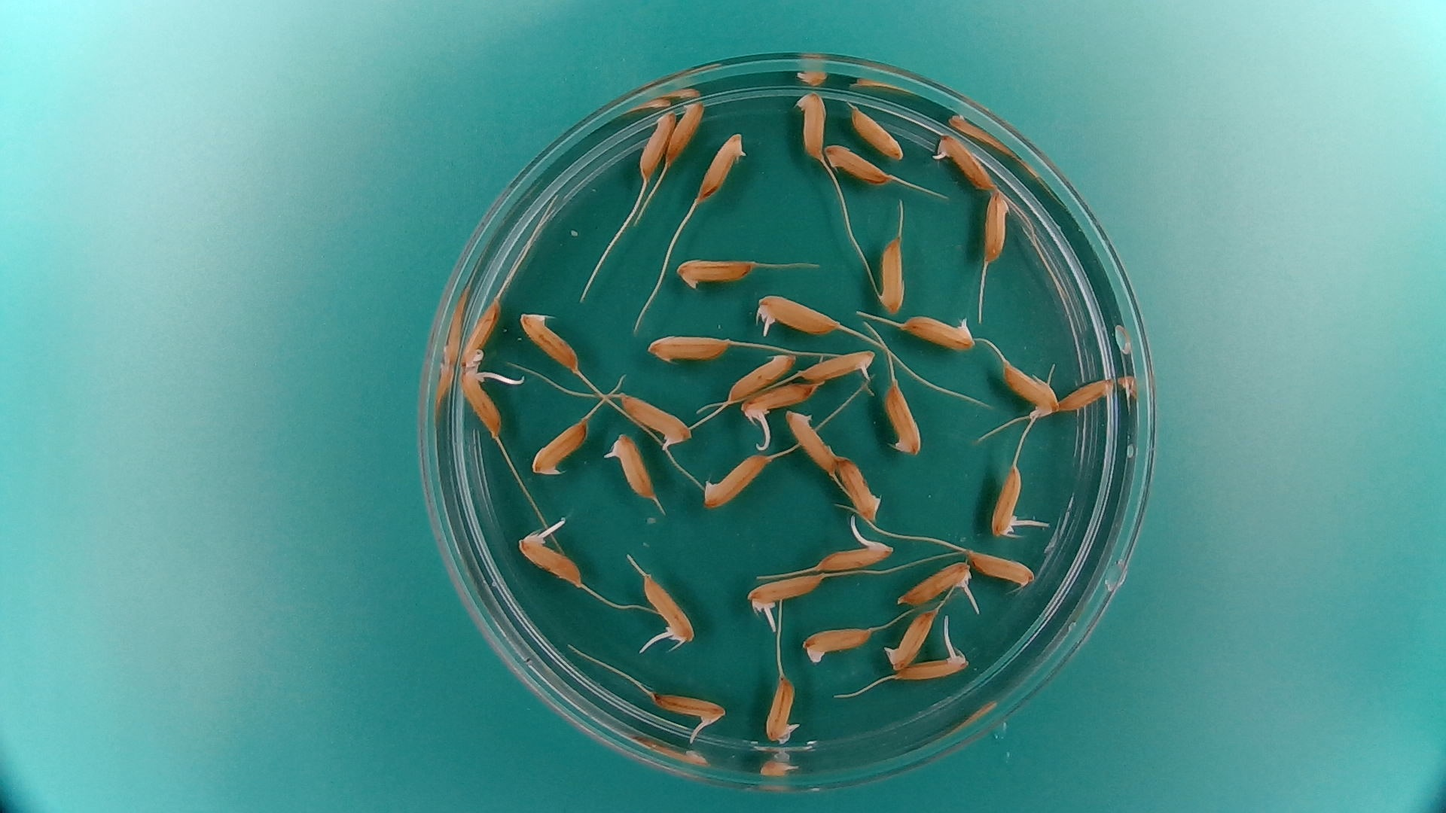no: (697, 450, 773, 510), (518, 306, 584, 373), (724, 345, 797, 404), (783, 405, 840, 477), (529, 415, 592, 477), (696, 129, 749, 199), (835, 453, 885, 524), (673, 251, 758, 292), (459, 294, 505, 369), (882, 379, 925, 457), (848, 102, 905, 160), (798, 623, 873, 666), (644, 330, 733, 365), (823, 143, 891, 185), (966, 549, 1036, 589), (792, 87, 828, 162), (1058, 371, 1119, 413), (639, 107, 676, 176), (875, 233, 905, 315), (664, 102, 703, 163), (981, 187, 1010, 264)
yes: (753, 290, 844, 340), (744, 568, 825, 624), (617, 395, 694, 452), (996, 357, 1063, 420), (640, 574, 696, 646), (932, 131, 999, 190), (895, 559, 975, 608), (603, 428, 656, 501), (520, 532, 587, 589), (883, 605, 938, 670), (456, 364, 502, 438), (741, 376, 819, 418), (798, 346, 877, 386), (900, 316, 978, 352), (763, 674, 801, 743), (654, 690, 732, 723), (810, 539, 886, 572), (990, 470, 1023, 540), (900, 650, 967, 681)
